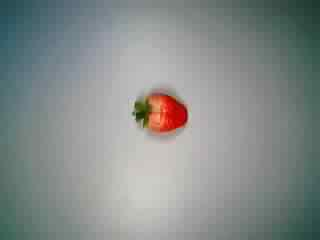strawberry: (127, 82, 193, 144)
